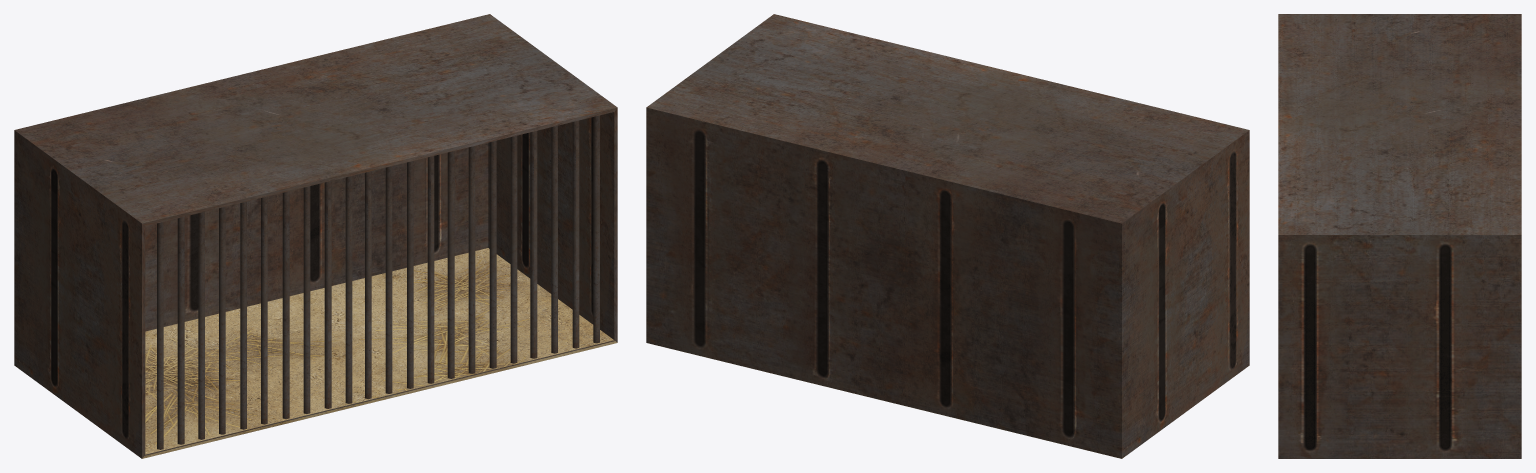
File: Squared Cage.FBX
3 views of the same model, side by side, from view 1: azimuth 30°, elevation 25°; view 2: azimuth 150°, elevation 25°; view 3: azimuth 270°, elevation 25° (orthographic). The views are drawn at different scales.
Parts seen in each view (by area): view 1: Box001; view 2: Box001; view 3: Box001.
Part boxes in pixels (x1,y1,x2,y2): Box001: [14, 14, 617, 458]; Box001: [646, 14, 1249, 458]; Box001: [1278, 14, 1521, 458].
Bounding box in the file's own units: 423 × 200 × 197.
Materials: 1 (1 with a texture image).
